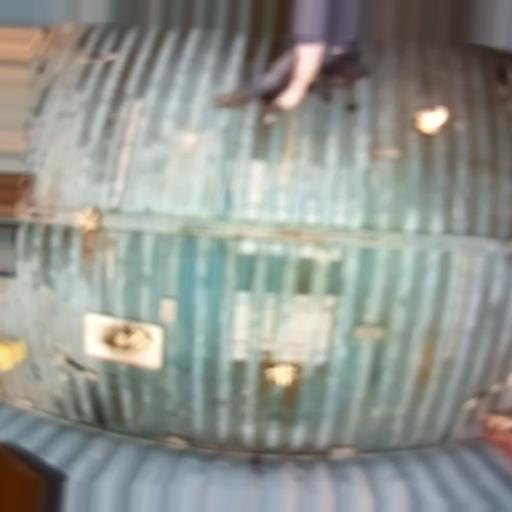Fire: (413, 104, 451, 136)
